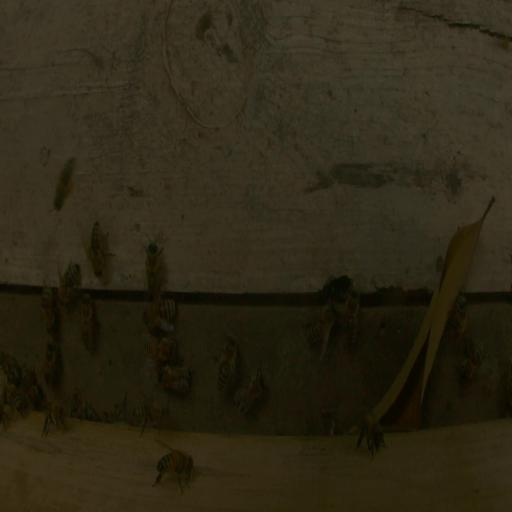nonpollenbee: (155, 448, 195, 494), (87, 219, 116, 277), (306, 303, 335, 358), (233, 368, 266, 415), (456, 338, 485, 382), (79, 290, 99, 353), (217, 333, 237, 395), (143, 296, 177, 332), (145, 229, 163, 294), (136, 401, 169, 435), (58, 260, 81, 305), (355, 414, 382, 452), (157, 364, 192, 393), (22, 367, 45, 410), (41, 402, 67, 437), (448, 292, 468, 337), (144, 336, 176, 363), (345, 286, 359, 347), (42, 339, 60, 385), (40, 285, 57, 333), (6, 386, 28, 419), (2, 350, 22, 385), (70, 391, 87, 418), (321, 410, 335, 437)
pollenbee: (51, 155, 78, 211)
